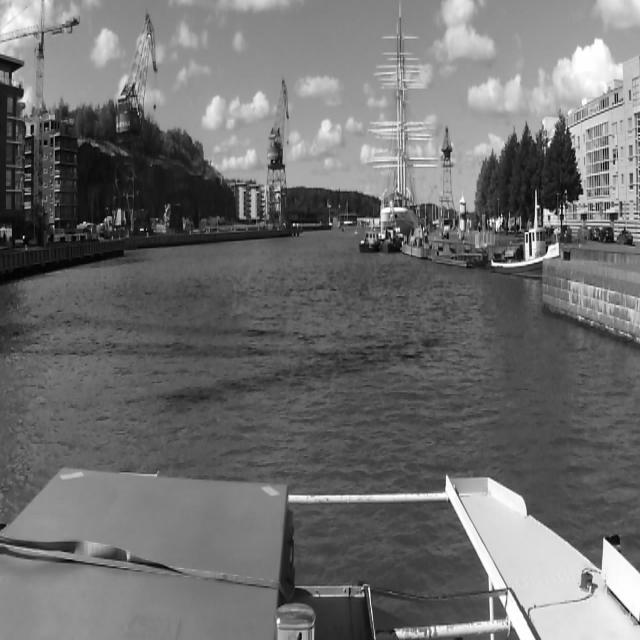ship: (381, 0, 419, 225), (490, 190, 562, 280), (382, 227, 401, 253), (359, 231, 379, 253)
